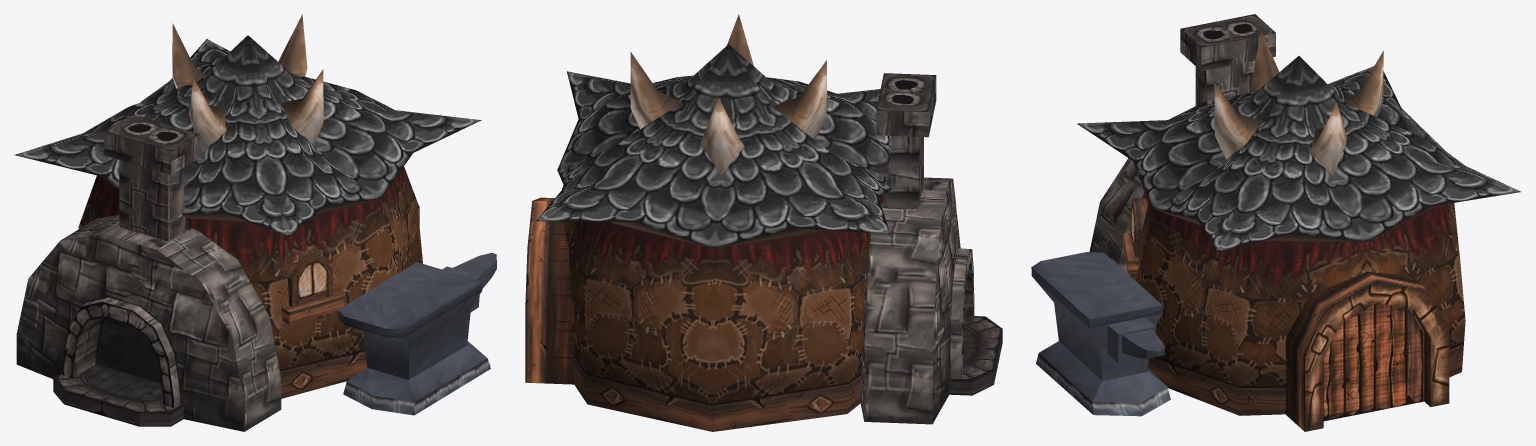
File: o_blacksmith.FBX
The picture shows the model from 3 angles, left to right: view 1: azimuth 30°, elevation 25°; view 2: azimuth 150°, elevation 25°; view 3: azimuth 270°, elevation 25°; orthographic projection. The views are drawn at different scales.
Parts seen in each view (by area): view 1: o_blacksmith; view 2: o_blacksmith; view 3: o_blacksmith.
Part boxes in pixels (left/top/right/bottom): o_blacksmith: left=15, top=14, right=496, bottom=431; o_blacksmith: left=525, top=14, right=1002, bottom=431; o_blacksmith: left=1031, top=14, right=1520, bottom=431.
Bounding box in the file's own units: 211 × 144 × 219.
